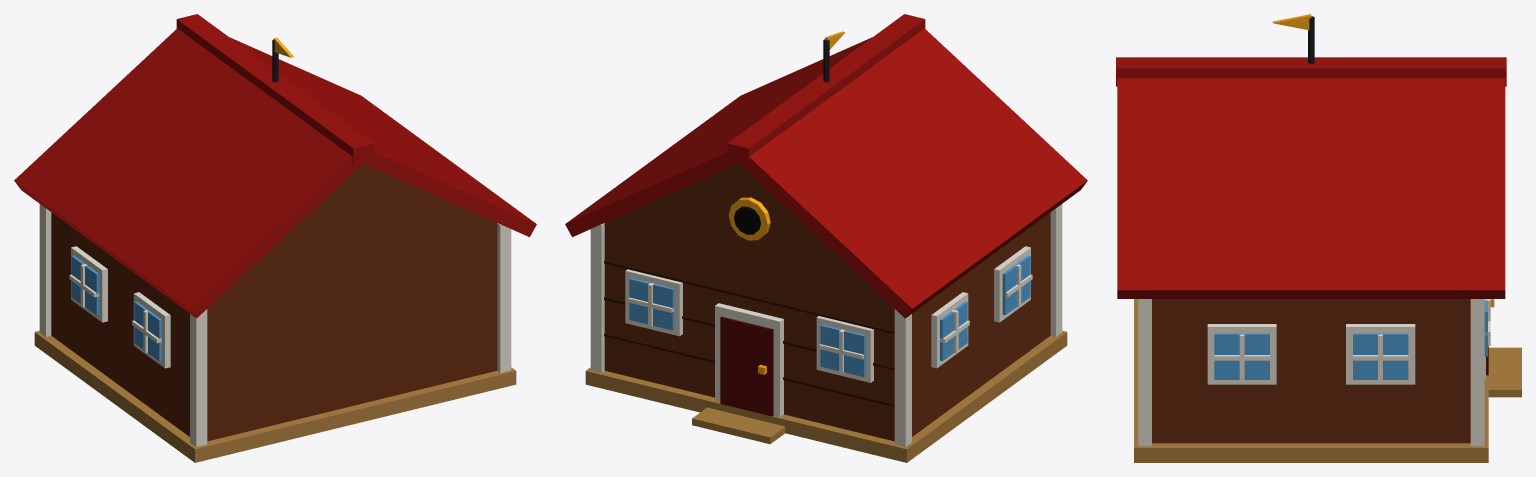
File: HenHouse.obj
The picture shows the model from 3 angles, left to right: view 1: azimuth 30°, elevation 25°; view 2: azimuth 150°, elevation 25°; view 3: azimuth 270°, elevation 25°; orthographic projection. The views are drawn at different scales.
Parts seen in each view (by area): view 1: HenHouse; view 2: HenHouse; view 3: HenHouse.
Part boxes in pixels (box(x1,y1,x2,y2)): HenHouse: box(14, 14, 536, 462); HenHouse: box(565, 14, 1087, 462); HenHouse: box(1116, 14, 1521, 462).
Bounding box in the file's own units: 4.48 × 4.03 × 4.1.
